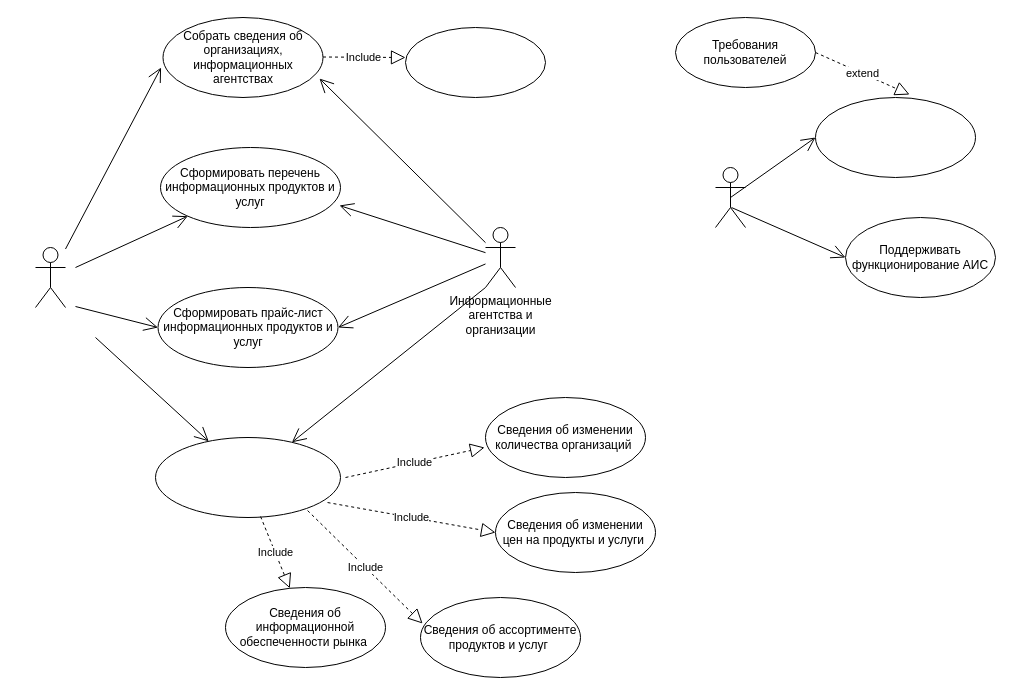
Some shapes in this 1013 by 695 pixel diagram are drawn without their labels. The centre of each missing label's shape, as x and y in pixels:
Администратор АИС: (730,197)
Выполнять настройку АИС: (895,137)
Зарегистрировать новую организацию: (475,62)
Отслеживать изменения информационного рынка Ставрополя: (247,477)
Сотрудник библиотеки: (50,277)
